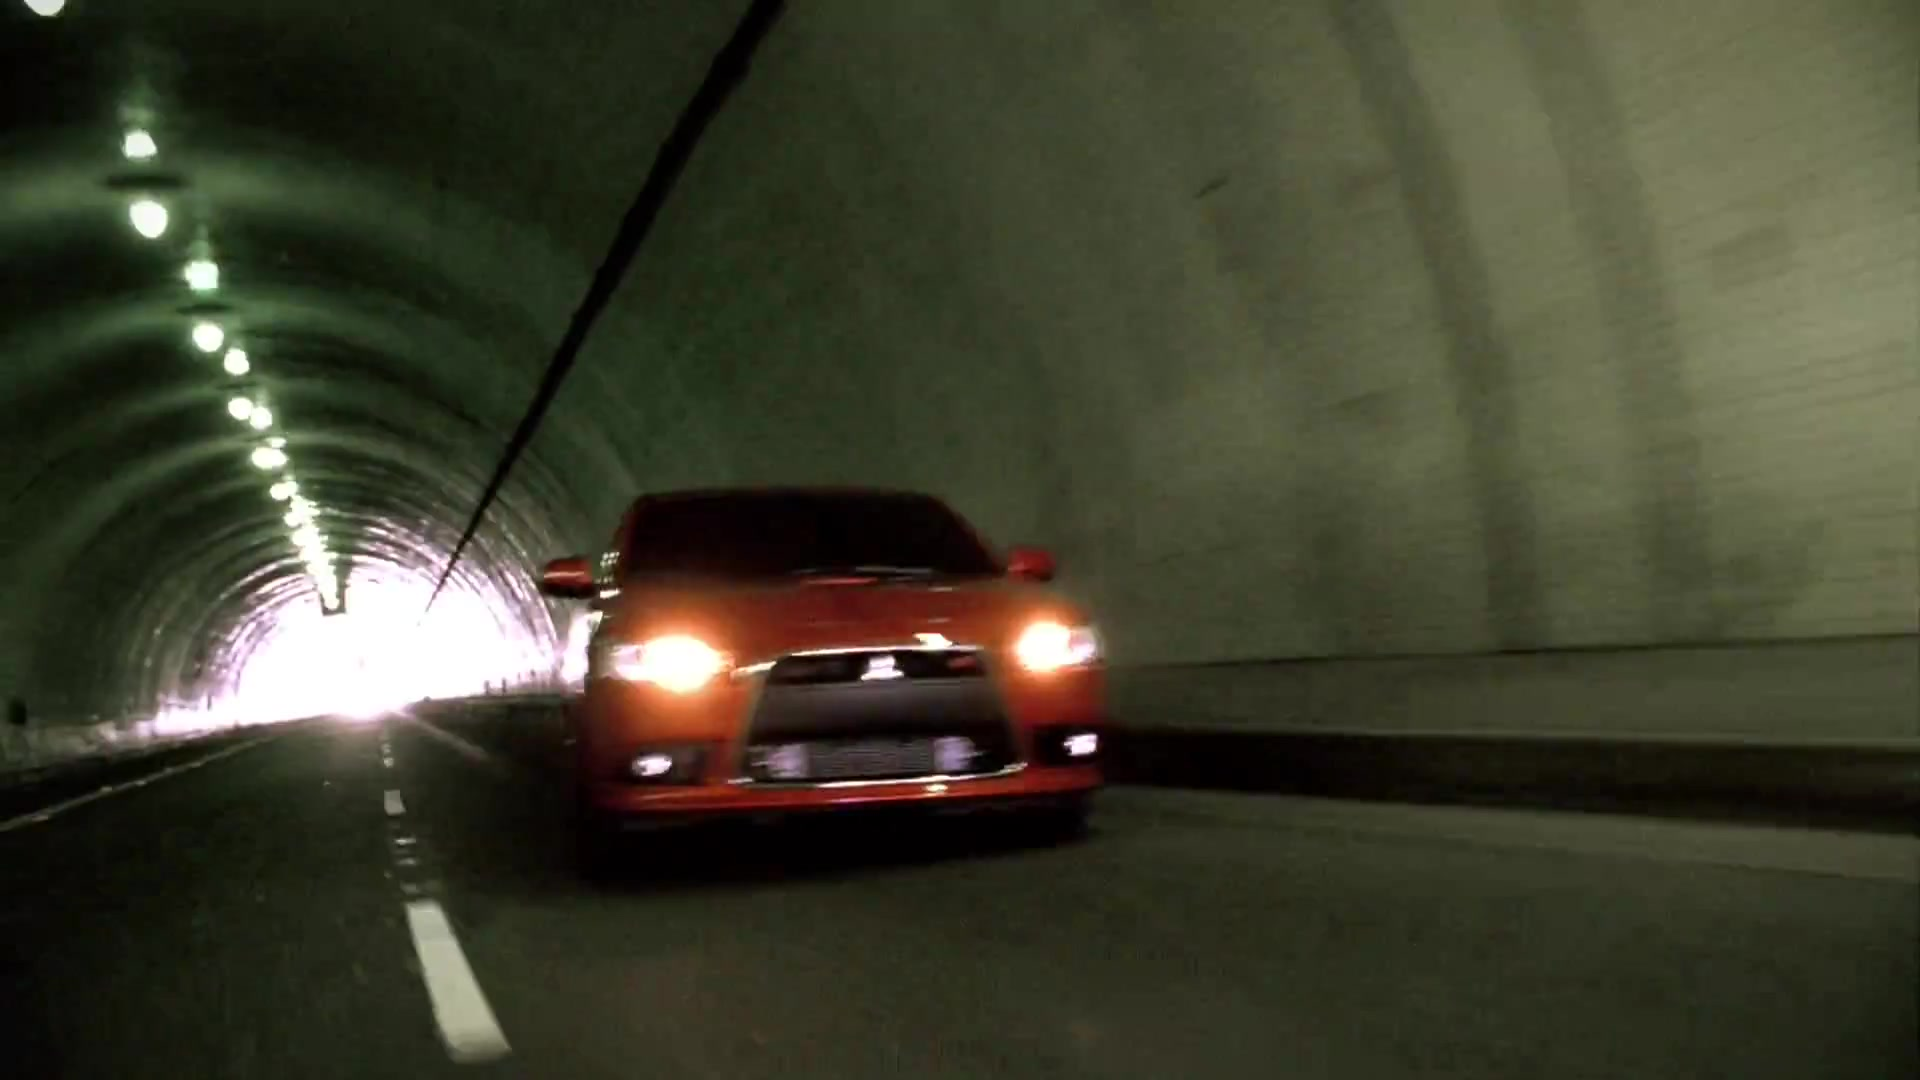car: (527, 477, 1124, 843)
